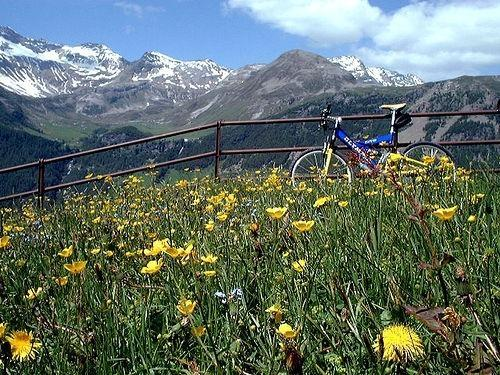bicycle: (294, 105, 458, 185)
